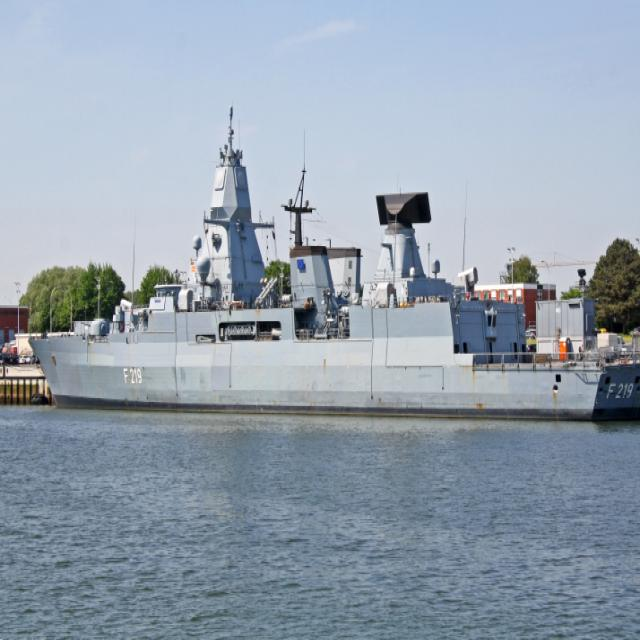Fragata: (23, 91, 640, 418)
